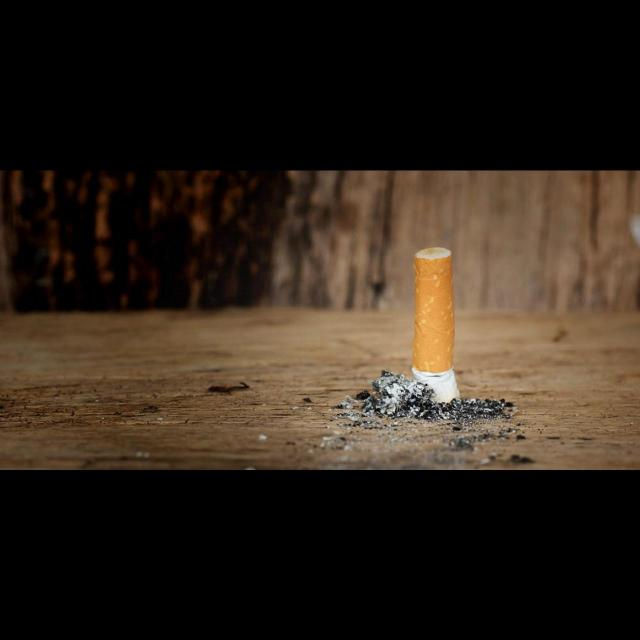cigarette: (411, 247, 459, 404)
